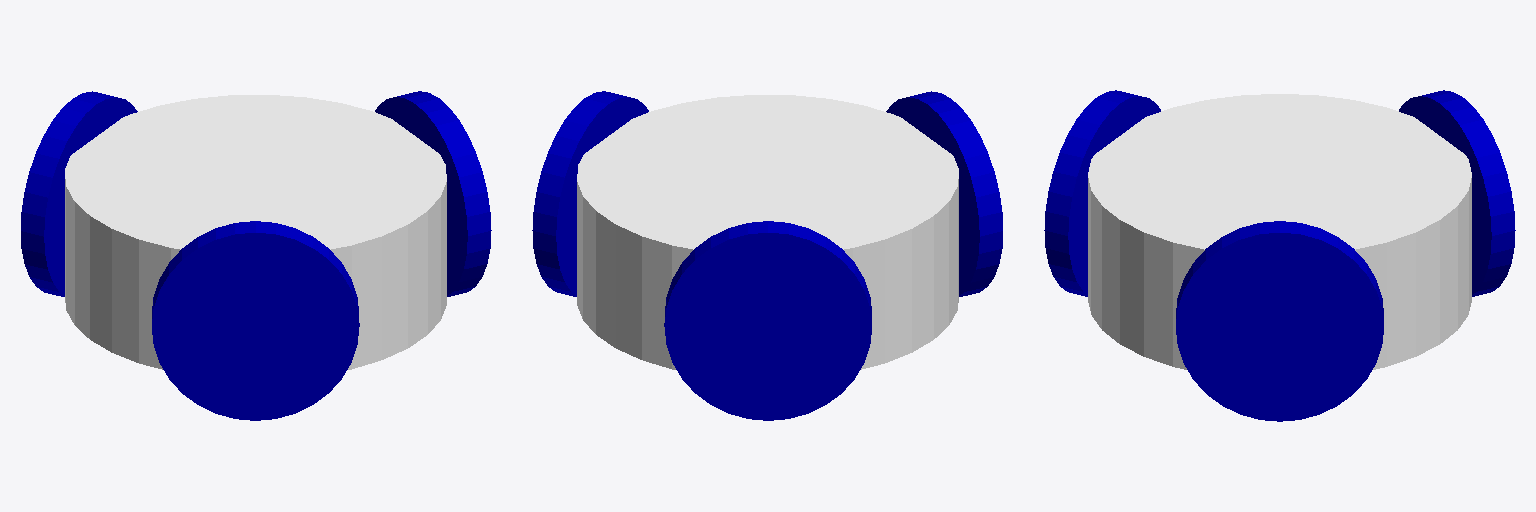
The robot description file, URDF, robot "wheeltec_robot":
<?xml version="1.0" ?>
<robot name="wheeltec_robot">

    <link name="base_link">
        <visual>
            <origin xyz=" 0 0 0" rpy="0 0 0" />
            <geometry>
                <cylinder length="0.2" radius="0.28"/>
            </geometry>
            <material name="white">
                <color rgba="1 1 1 1"/>
            </material>
        </visual>
    </link>   

    <link name="front_wheel">
        <visual>
            <origin rpy="0 1.57 0" xyz="0 0 0"/>
            <geometry>
                <cylinder length="0.04" radius="0.152"/>
            </geometry>
            <material name="black">
                <color rgba="0 0 0.8 1"/>
            </material>
        </visual>
    </link>

    <link name="left_wheel">
        <visual>
            <origin rpy="0 1.57 -1.05" xyz="0 0 0"/>
            <geometry>
                <cylinder length="0.04" radius="0.152"/>
            </geometry>
            <material name="blue">
                <color rgba="0 0 0.8 1"/>
            </material>
        </visual>
    </link>

    <link name="right_wheel">
        <visual>
            <origin rpy="0 1.57 1.05" xyz="0 0 0"/>
            <geometry>
                <cylinder length="0.04" radius="0.152"/>
            </geometry>
            <material name="blue">
                <color rgba="0 0 0.8 1"/>
            </material>
        </visual>
    </link>

    <joint name="base_to_front_wheel" type="fixed">
        <parent link="base_link"/>
        <child link="front_wheel"/>
        <origin rpy="0 0 0" xyz="0.29 0 0.0"/>
    </joint>

    <joint name="base_to_left_wheel" type="fixed">
        <parent link="base_link"/>
        <child link="left_wheel"/>
        <origin rpy="0 0 0" xyz="-0.145 0.25 0.0"/>
    </joint>

    <joint name="base_to_right_wheel" type="fixed">
        <parent link="base_link"/>
        <child link="right_wheel"/>
        <origin rpy="0 0 0" xyz="-0.145 -0.25 0.0"/>
    </joint>

    </robot>

--- Facts derived from the render (not from the file) ---
Views: 3 orthographic renders of the robot side by side, from view 1: azimuth 30°, elevation 25°; view 2: azimuth 150°, elevation 25°; view 3: azimuth 270°, elevation 25°.
Model wheeltec_robot with 4 links and 3 joints (3 fixed), rooted at base_link, posed every joint at zero.
Links seen in each view (by area): view 1: base_link, right_wheel, front_wheel, left_wheel; view 2: base_link, left_wheel, front_wheel, right_wheel; view 3: base_link, front_wheel, left_wheel, right_wheel.
Link boxes in pixels (x1,y1,x2,y2): base_link: (65,95,446,369); right_wheel: (152,221,359,420); front_wheel: (375,91,491,296); left_wheel: (21,91,137,296); base_link: (577,95,958,369); left_wheel: (664,221,871,420); front_wheel: (532,91,648,296); right_wheel: (886,91,1002,296); base_link: (1088,94,1471,369); front_wheel: (1176,221,1383,421); left_wheel: (1399,90,1515,296); right_wheel: (1044,90,1160,296).
Bounding box of the posed robot: 0.5969 × 0.686 × 0.304 m (x, y, z).
Geometry: primitives only (box / cylinder / sphere), no mesh files.
